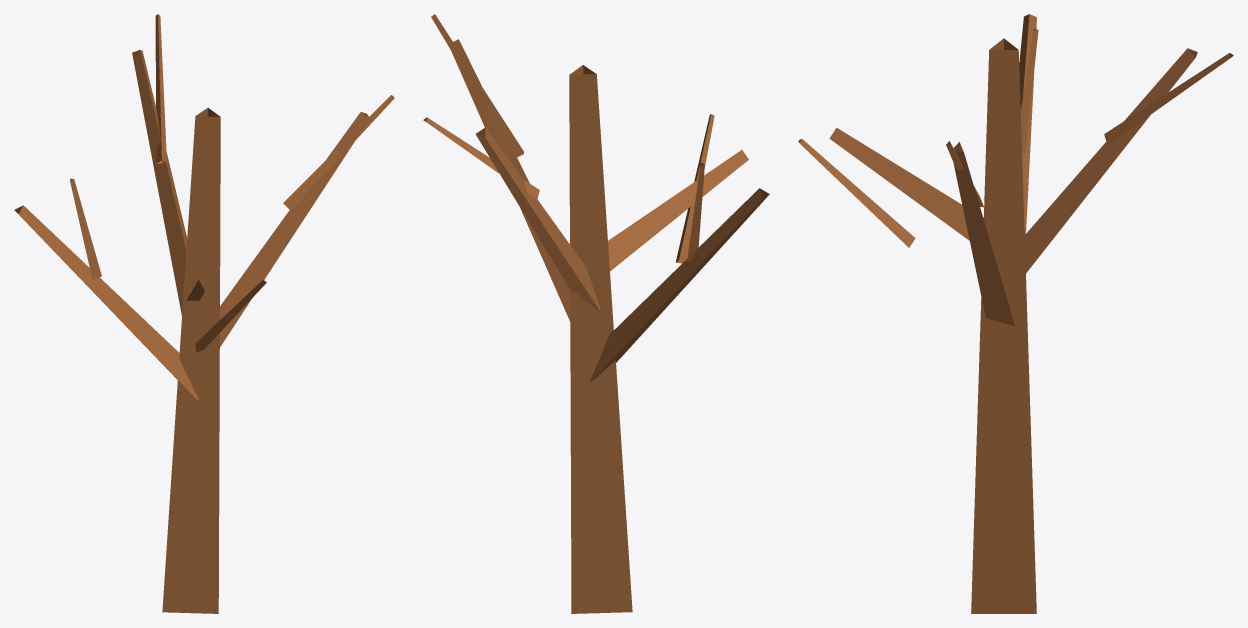
File: prop.tree.dead.lod2.glb
3 views of the same model, side by side, from view 1: azimuth 30°, elevation 25°; view 2: azimuth 150°, elevation 25°; view 3: azimuth 270°, elevation 25° (orthographic). The views are drawn at different scales.
Parts seen in each view (by area): view 1: body; view 2: body; view 3: body.
Part boxes in pixels (x1,y1,x2,y2): body: [14, 14, 394, 613]; body: [423, 14, 769, 613]; body: [798, 14, 1233, 613].
Size of the model in its own units: 3.53 by 4.97 by 3.33.
